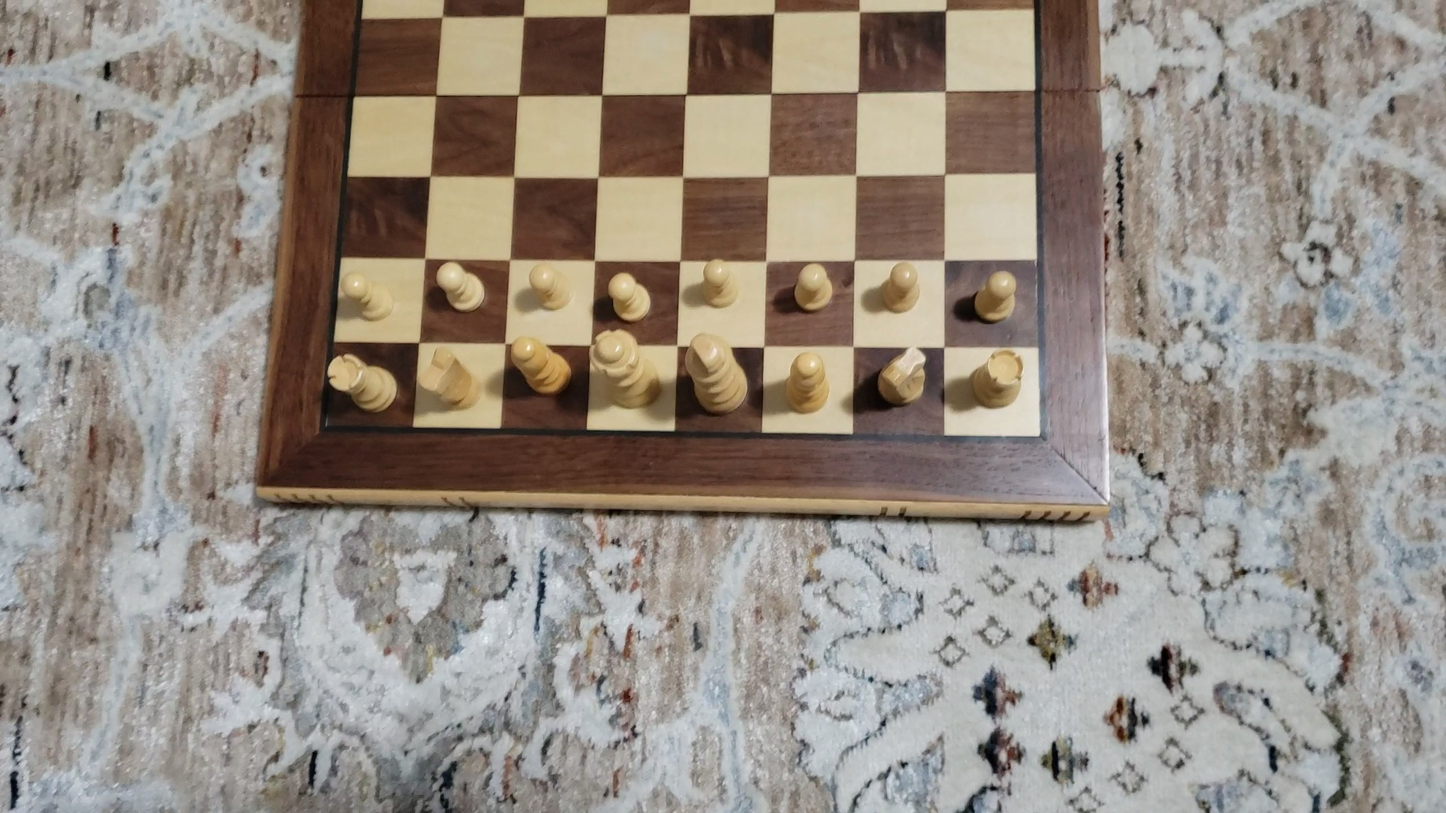white-bishop: (506, 335, 572, 397), (782, 349, 833, 418)
white-king: (686, 331, 750, 418)
white-knight: (418, 343, 484, 414), (871, 343, 930, 412)
white-pawn: (968, 265, 1023, 327), (339, 269, 398, 325), (874, 257, 927, 318), (433, 259, 488, 314), (695, 253, 746, 311), (524, 259, 576, 314), (605, 268, 655, 325), (789, 260, 836, 316)
white-queen: (591, 328, 664, 412)
white-rook: (327, 352, 400, 416), (965, 346, 1030, 414)
